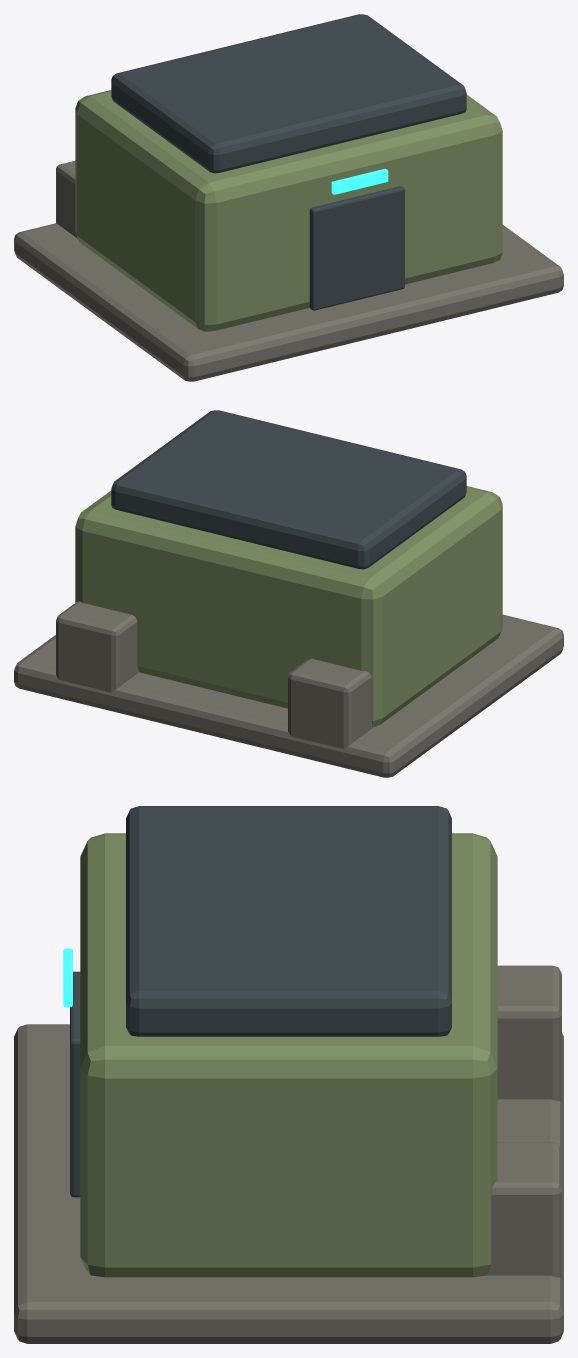
Rendered from human_barracks.glb.
3 renders of one model, top to bottom at view 1: azimuth 30°, elevation 25°; view 2: azimuth 150°, elevation 25°; view 3: azimuth 270°, elevation 25°, orthographic. The views are drawn at different scales.
Visible parts, largest first — view 1: BarracksHull, RoofArmor, Foundation, Door, Cargo, DoorLight; view 2: BarracksHull, RoofArmor, Foundation, Cargo, Cargo.001; view 3: BarracksHull, RoofArmor, Foundation, Cargo.001, Cargo, Door.
Boxes of the visible parts, x1,y1,x2,y2 form: BarracksHull: (75,90,502,331); RoofArmor: (111,14,466,173); Foundation: (14,223,563,381); Door: (309,186,404,310); Cargo: (56,161,77,238); DoorLight: (331,168,388,194); BarracksHull: (75,486,502,727); RoofArmor: (111,410,466,569); Foundation: (14,614,563,777); Cargo: (288,658,373,749); Cargo.001: (56,601,138,692); BarracksHull: (80,833,497,1277); RoofArmor: (126,806,451,1036); Foundation: (14,1024,563,1343); Cargo.001: (486,1142,561,1278); Cargo: (497,965,561,1102); Door: (70,971,80,1197).
Bounding box in the file's own units: 1.8 × 0.89 × 1.45.
